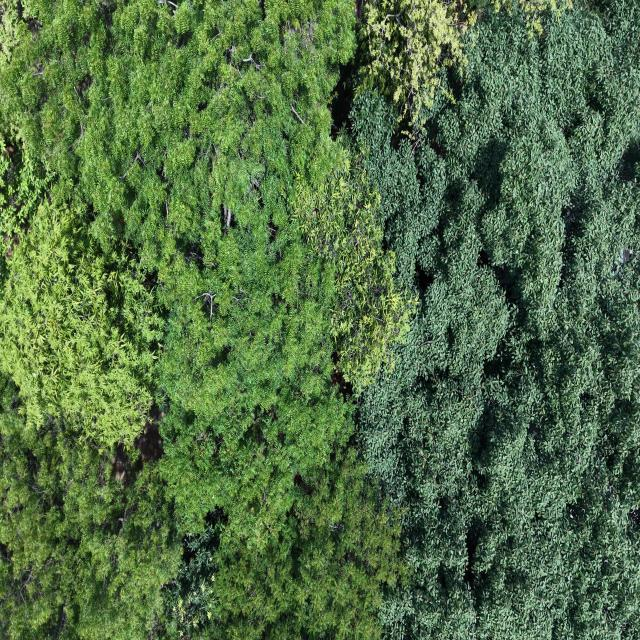VEGETATION_TREE: (0, 0, 639, 639), (0, 0, 410, 638), (353, 0, 639, 639), (0, 146, 181, 638), (0, 377, 181, 639), (0, 202, 163, 447), (356, 0, 572, 130)
